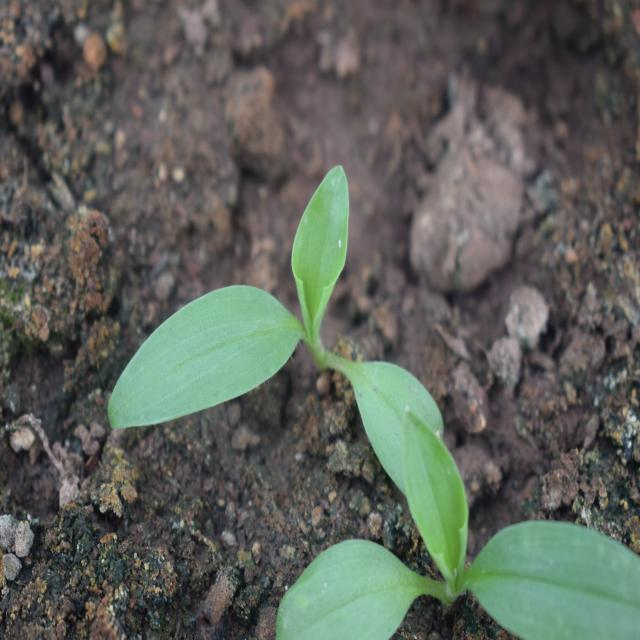Common Dayflower: (120, 156, 487, 585)
